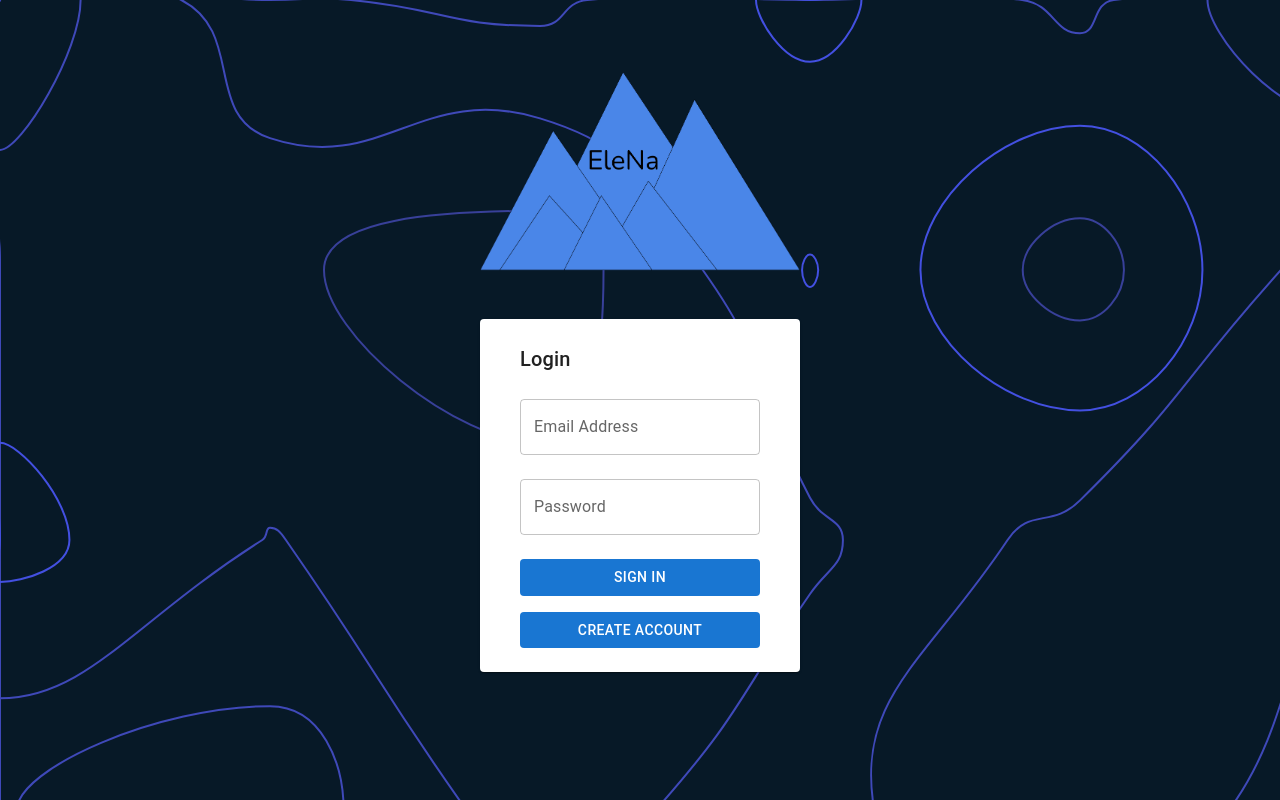
Authentication › should show error on login with no email
The image size is (1280, 800).
Type "password" into the password field with test id "loginPassword" at coordinates (640, 507), box [520, 479, 760, 535]
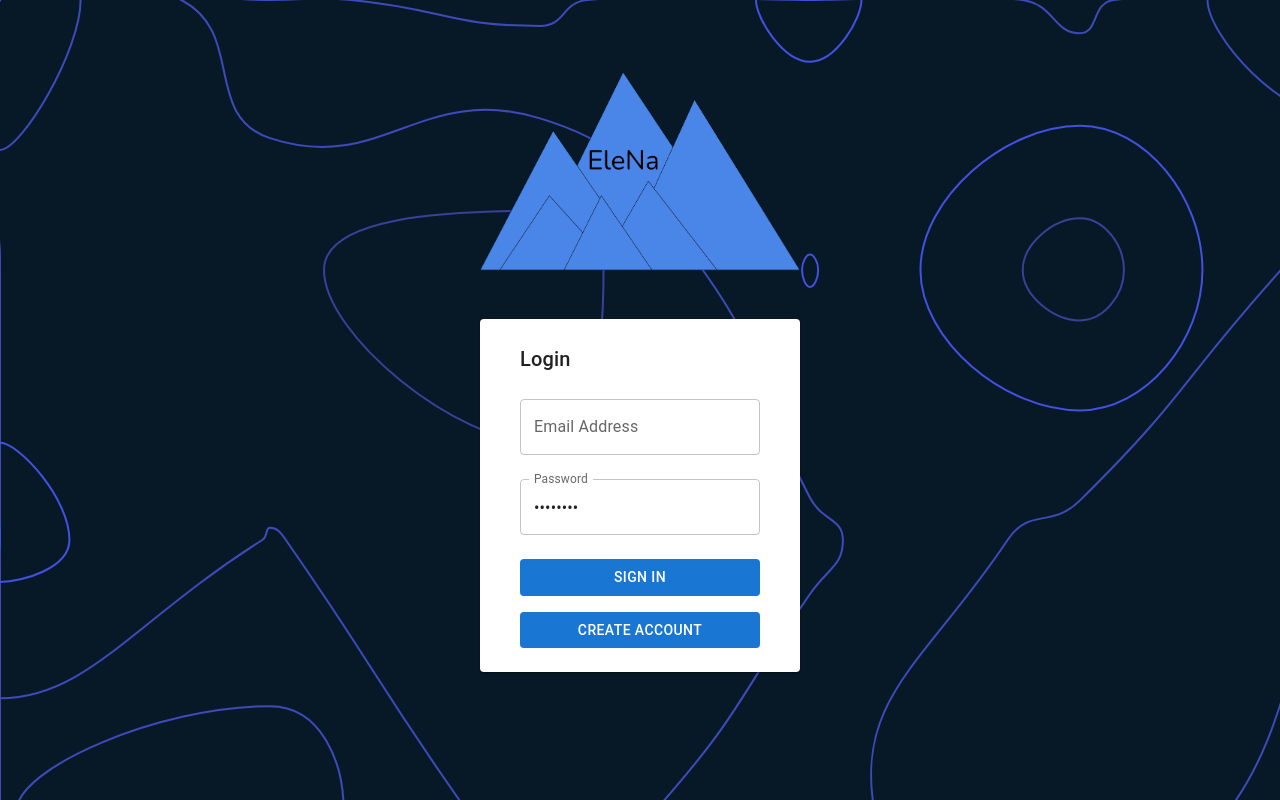
Click the button with test id "loginButton" at coordinates (640, 578), box [520, 559, 760, 596]
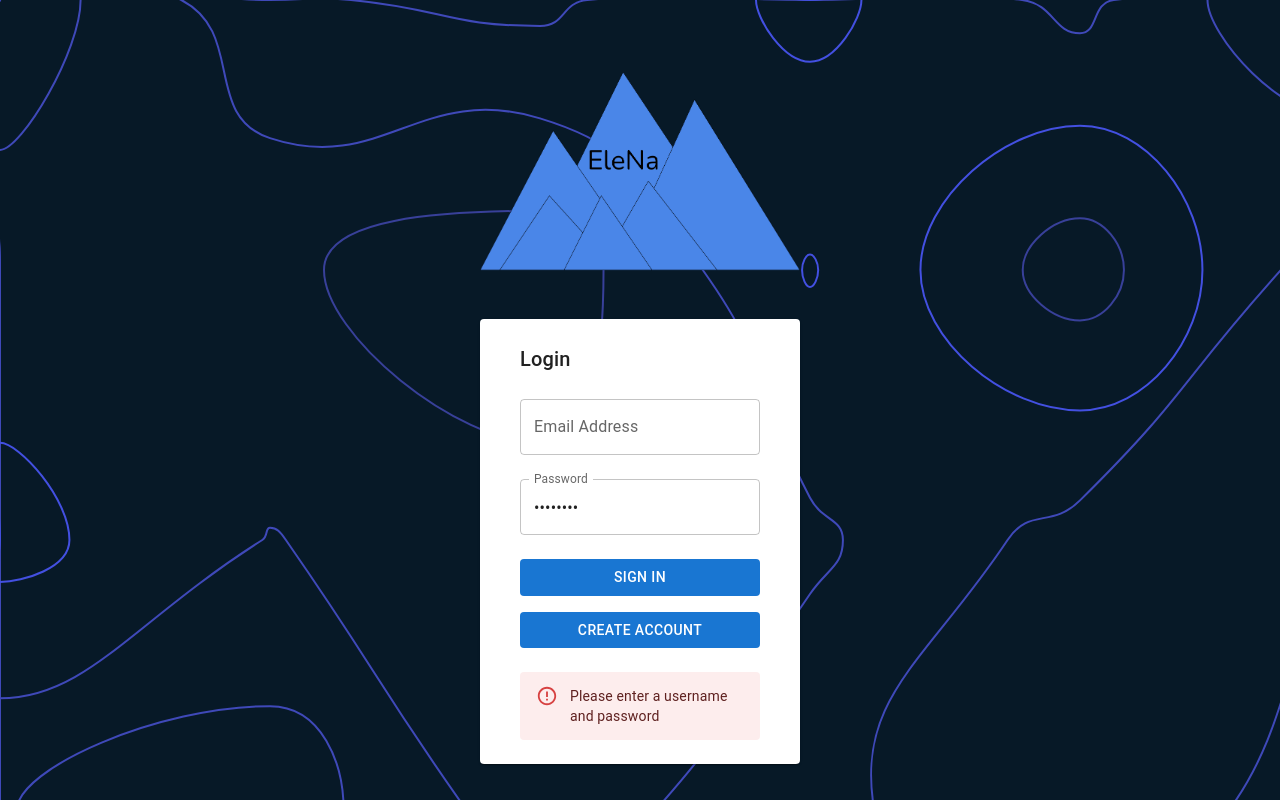
Expected: the message "Please enter a username and password" is shown, [520, 672, 760, 740]
